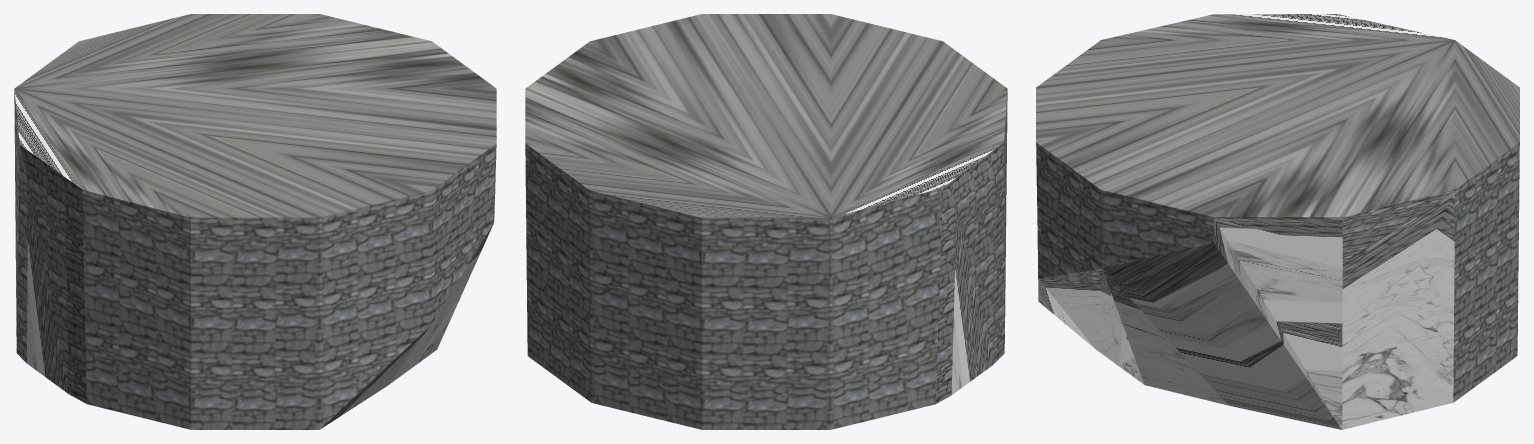
File: tower_first_floor_sector.fbx
3 views of the same model, side by side, from view 1: azimuth 30°, elevation 25°; view 2: azimuth 150°, elevation 25°; view 3: azimuth 270°, elevation 25° (orthographic).
Visible parts, largest first — view 1: SECTOR_001; view 2: SECTOR_001; view 3: SECTOR_001.
Part boxes in pixels (x1,y1,x2,y2): SECTOR_001: (14,14,496,429); SECTOR_001: (525,14,1007,429); SECTOR_001: (1036,14,1519,429).
Size of the model in its own units: 5608 by 2735 by 5608.
